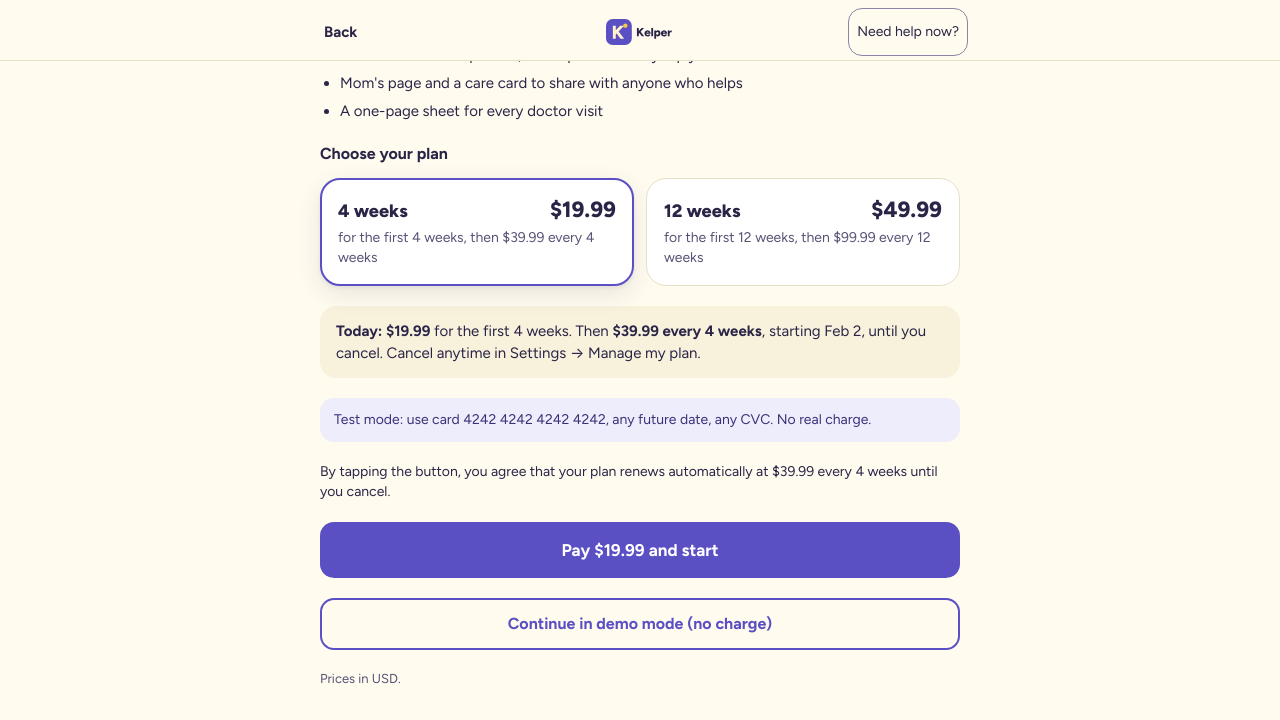
Test case: fake Stripe journey › declined card shows the API message, stays on the page, and a retry with 4242 works
(page scrolled)
Click the button "Pay $19.99 and start": point(640, 550) [320,522,960,578]
(page scrolled)
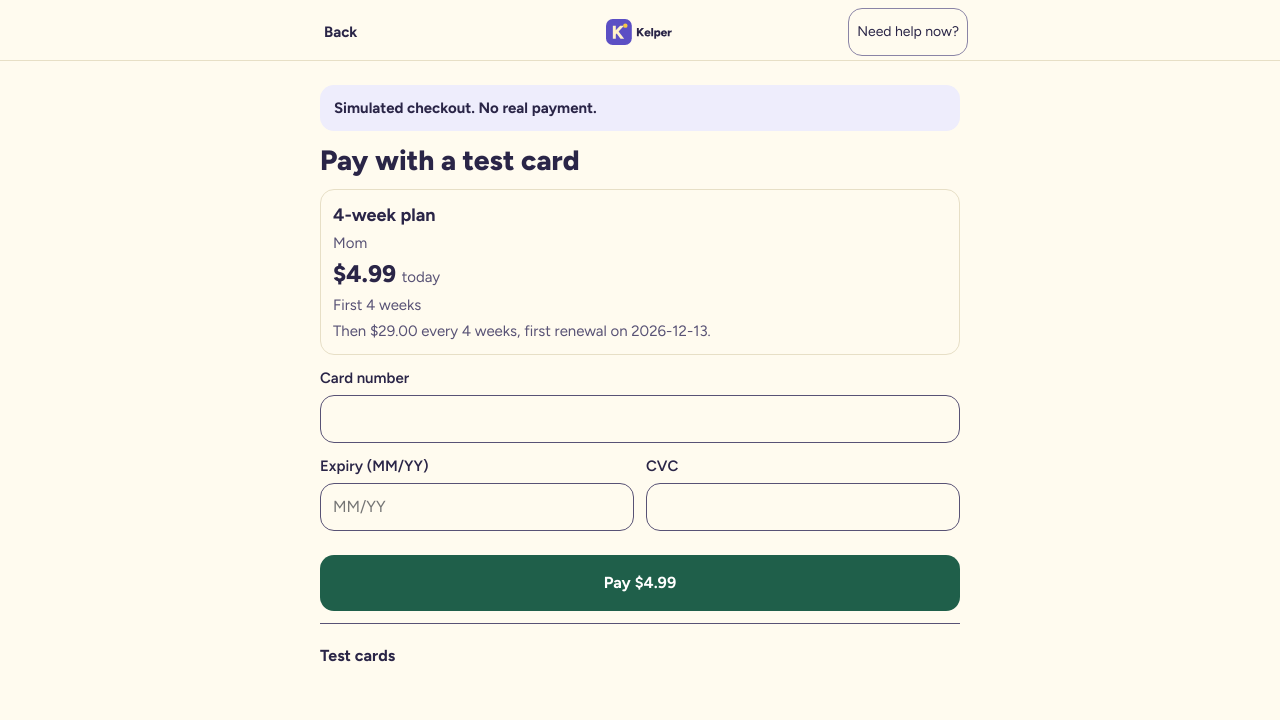
Result: the heading "Pay with a test card" is shown at [320,143,580,177]
In the field labelled "Card number": point(640, 419) [320,395,960,443], type "4000 0000 0000 0002"
In the field labelled "Expiry (MM/YY)": point(477, 507) [320,483,634,531], type "12/34"
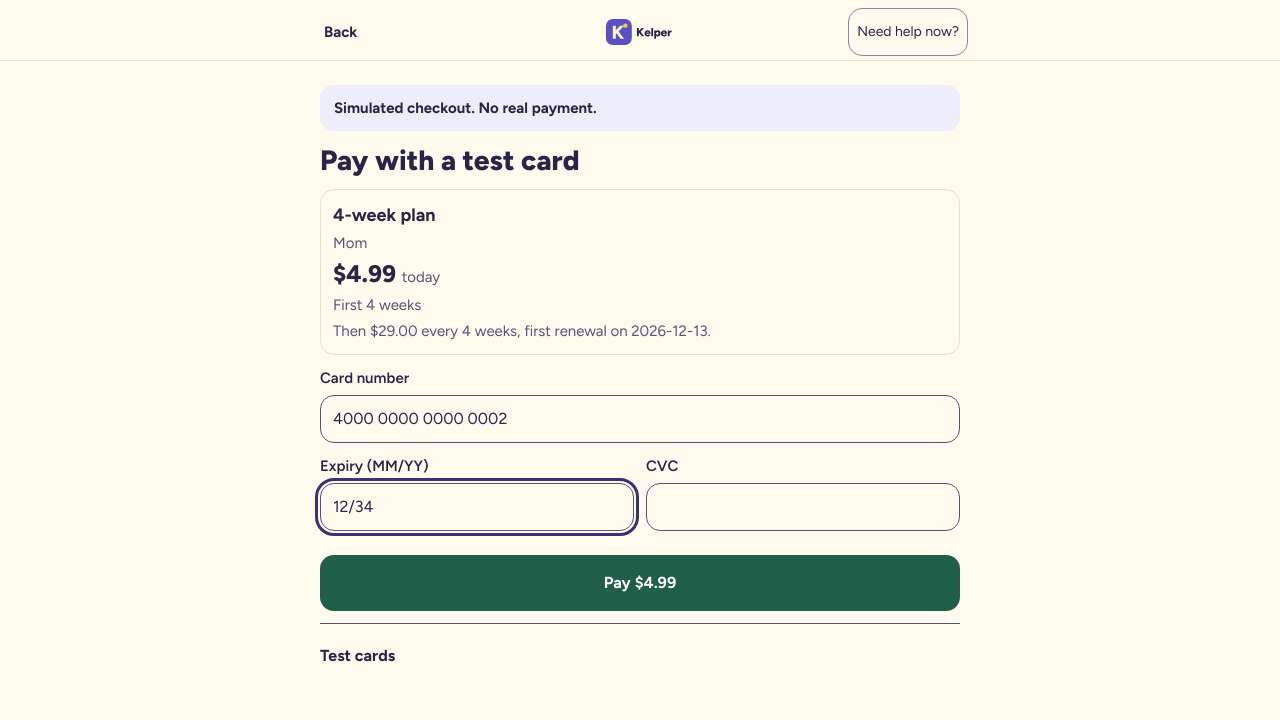
In the field labelled "CVC": point(803, 507) [646,483,960,531], type "123"
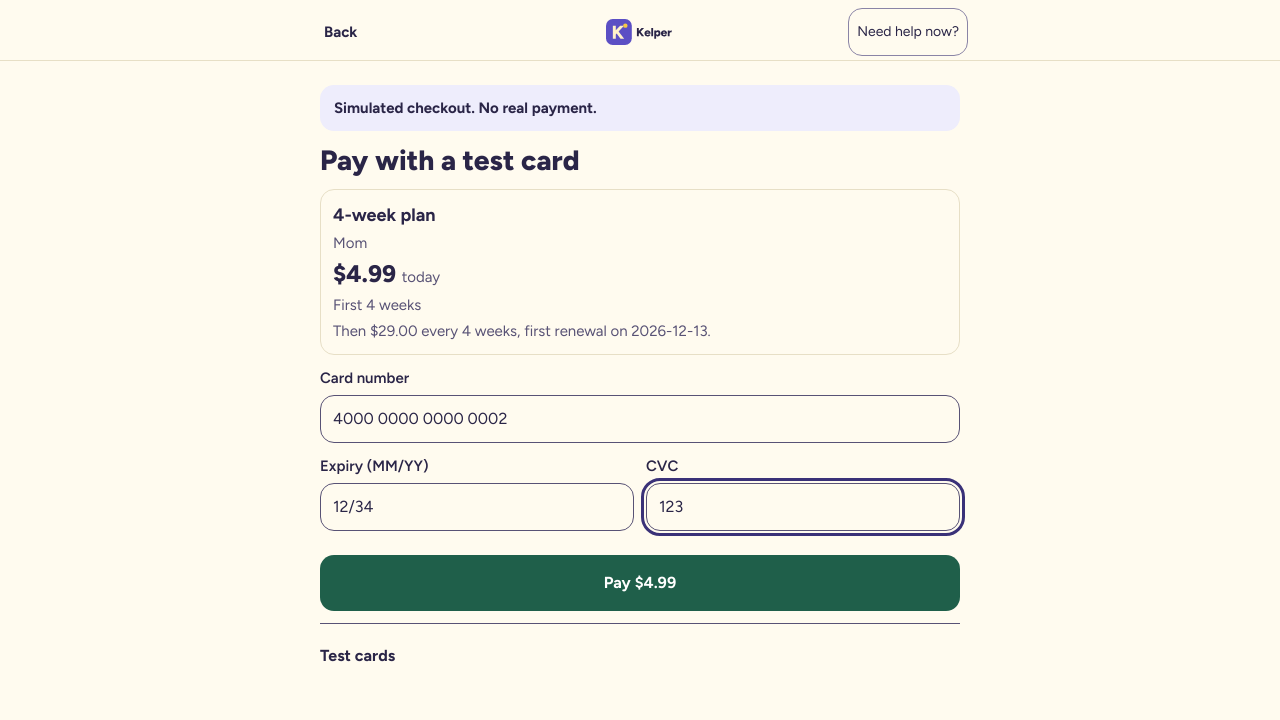
Click the button "Pay $4.99": point(640, 583) [320,555,960,611]
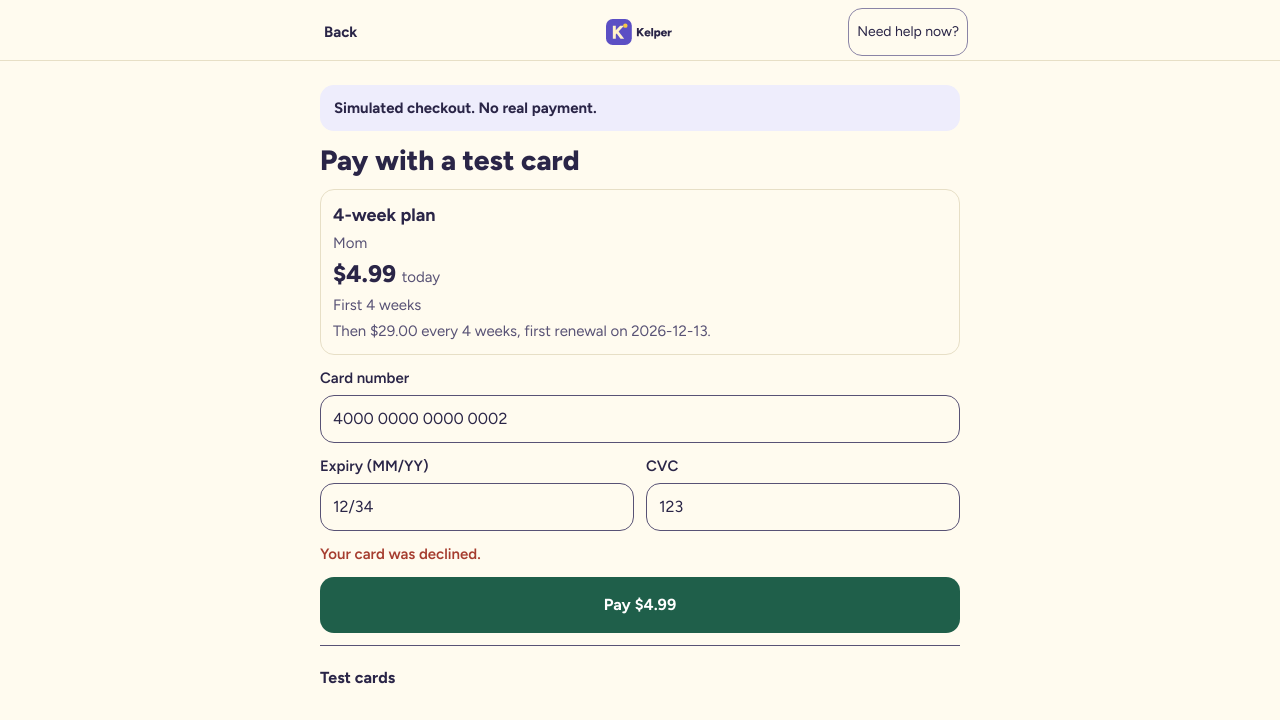
Result: the message reads "Your card was declined." at [320,545,481,563]
Replace the text in the field labelled "Card number" with "4242424242424242": point(640, 419) [320,395,960,443]
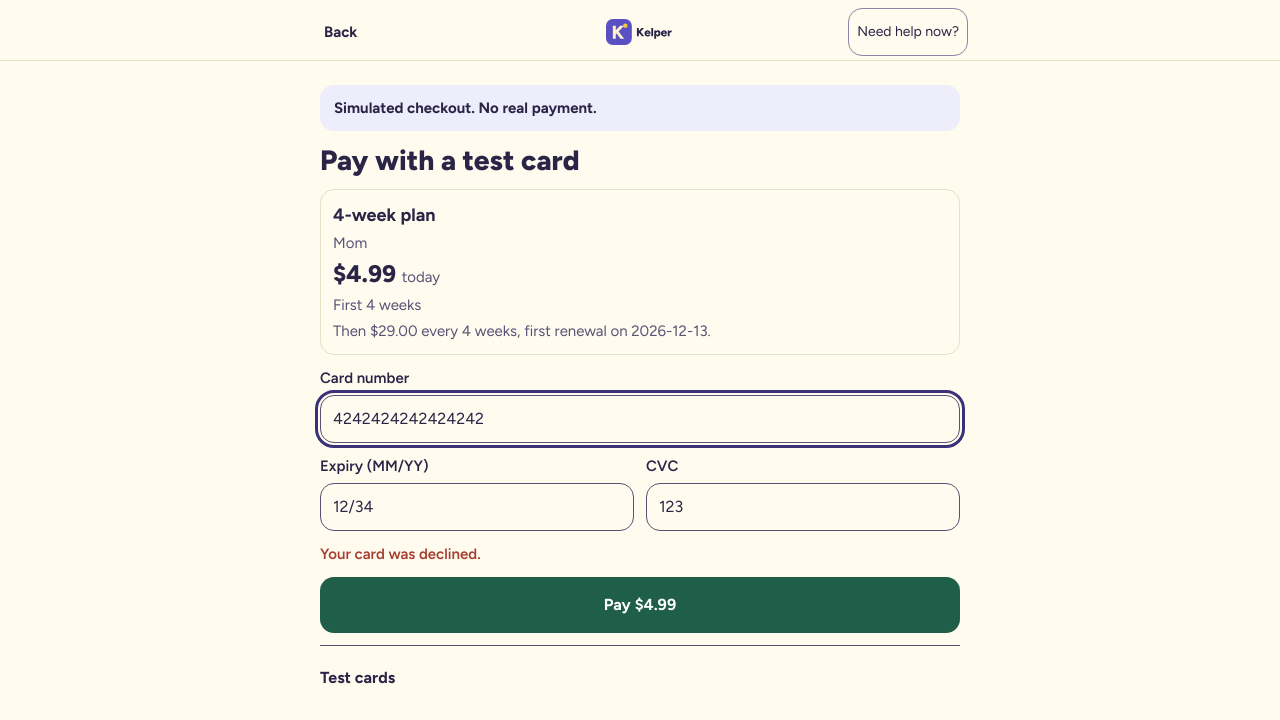
Click the button "Pay $4.99": point(640, 605) [320,577,960,633]
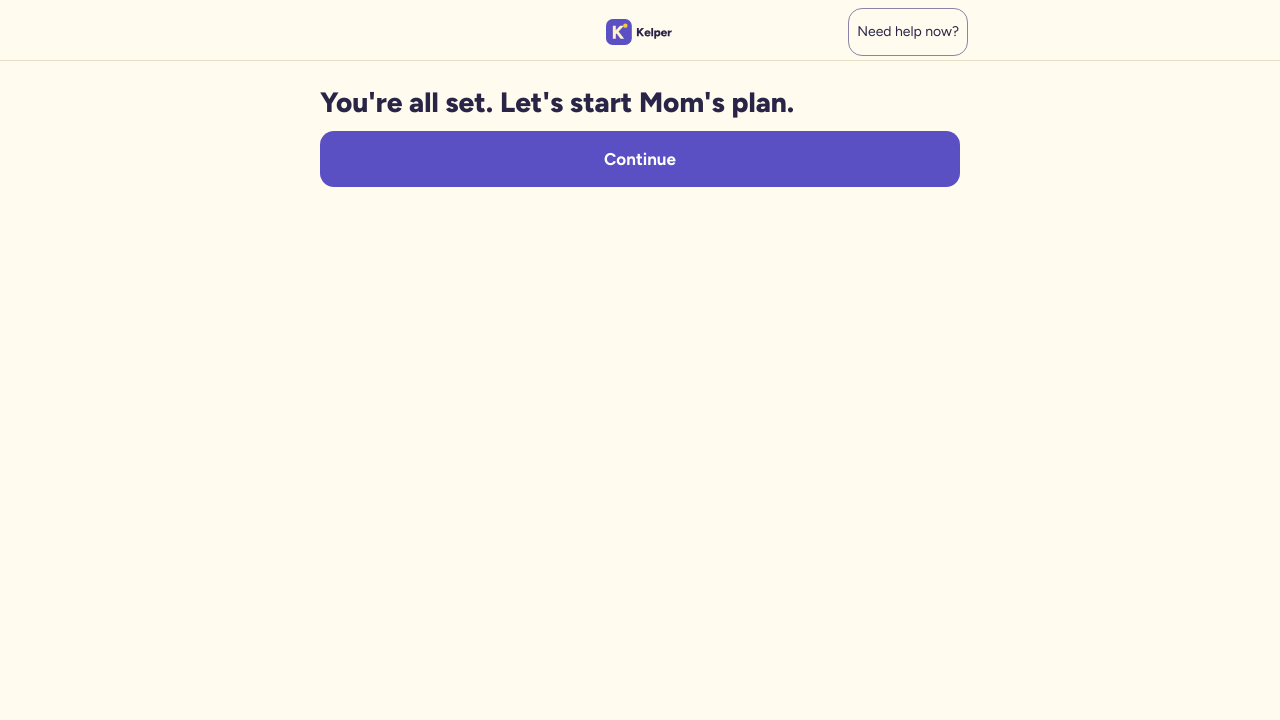
Result: the heading "You're all set. Let's start Mom's plan." is shown at [320,85,794,119]
